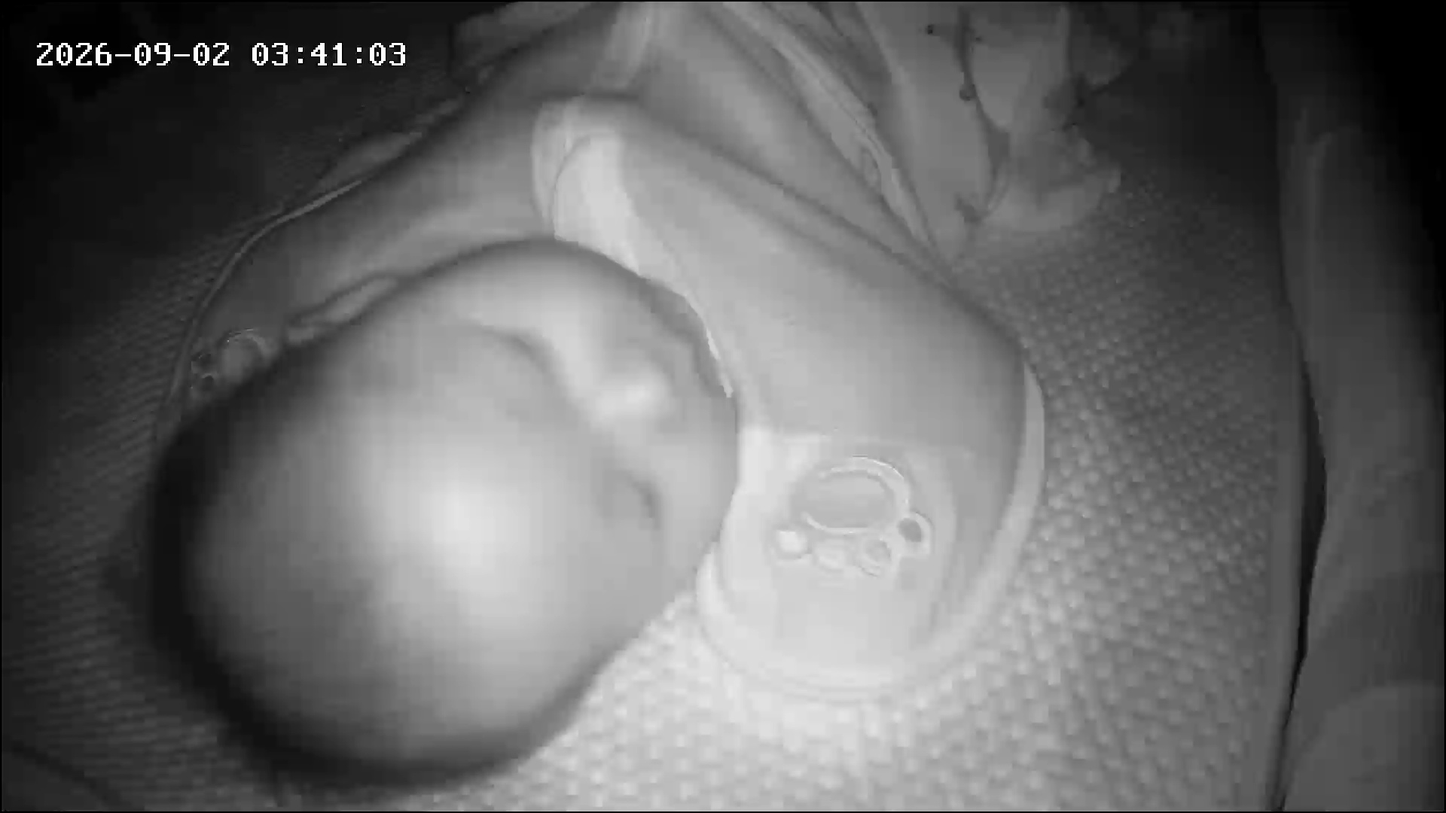baby: (93, 0, 1074, 802)
baby_face: (168, 230, 764, 793)
